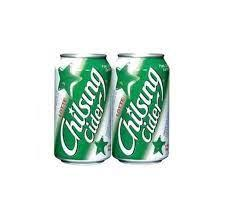chilsungcider: (111, 34, 175, 165), (51, 49, 112, 166)
